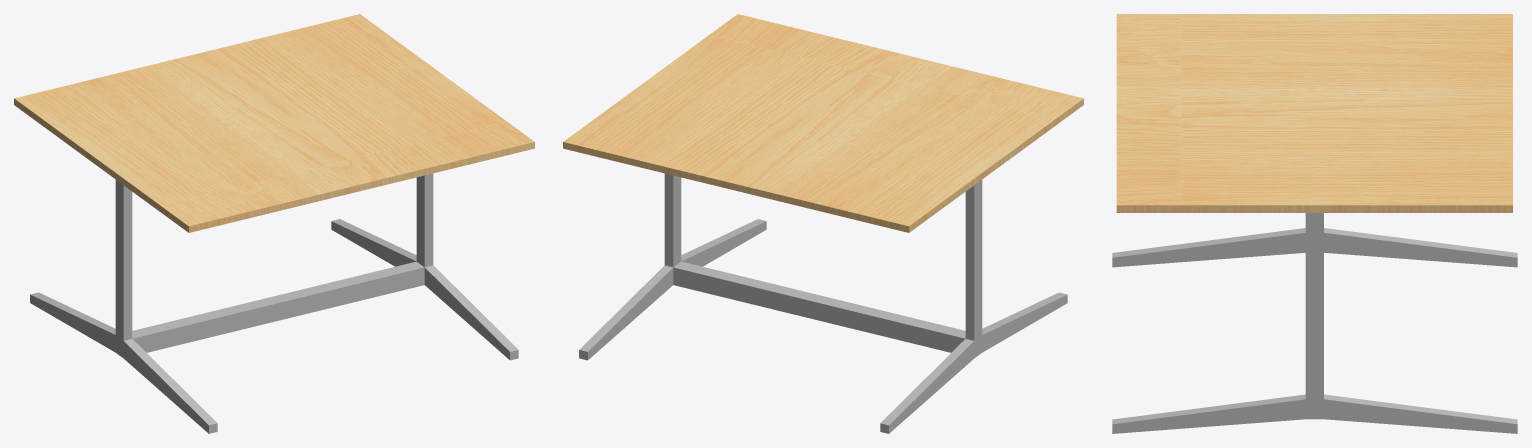
File: mediumWoodTable.fbx
3 renders of one model, left to right at view 1: azimuth 30°, elevation 25°; view 2: azimuth 150°, elevation 25°; view 3: azimuth 270°, elevation 25°, orthographic. The views are drawn at different scales.
Parts seen in each view (by area): view 1: MSH_table1; view 2: MSH_table1; view 3: MSH_table1.
Boxes of the visible parts, x1,y1,x2,y2 form: MSH_table1: (14,14,534,433); MSH_table1: (563,14,1083,433); MSH_table1: (1112,14,1517,433).
Bounding box in the file's own units: 8.13 × 4.73 × 7.28.
